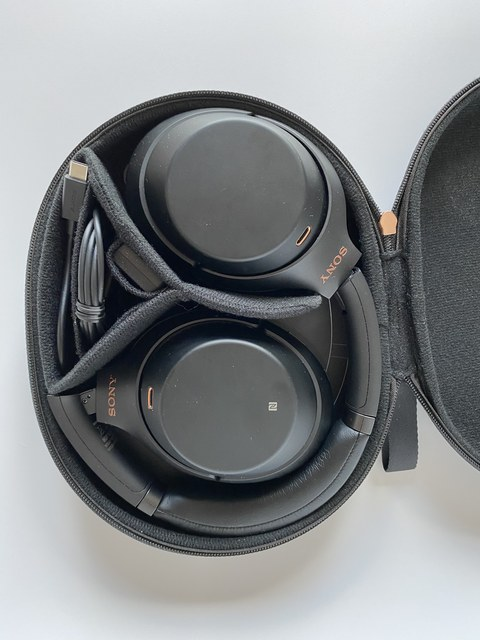Ambrane 10000mAh Power Bank: (24, 32, 456, 608)
